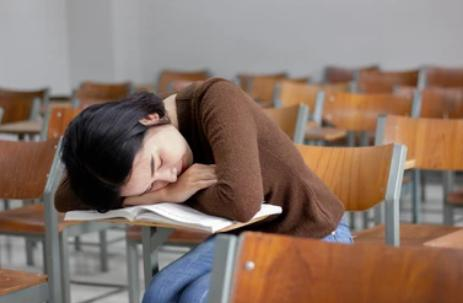sleep: (49, 77, 292, 220)
